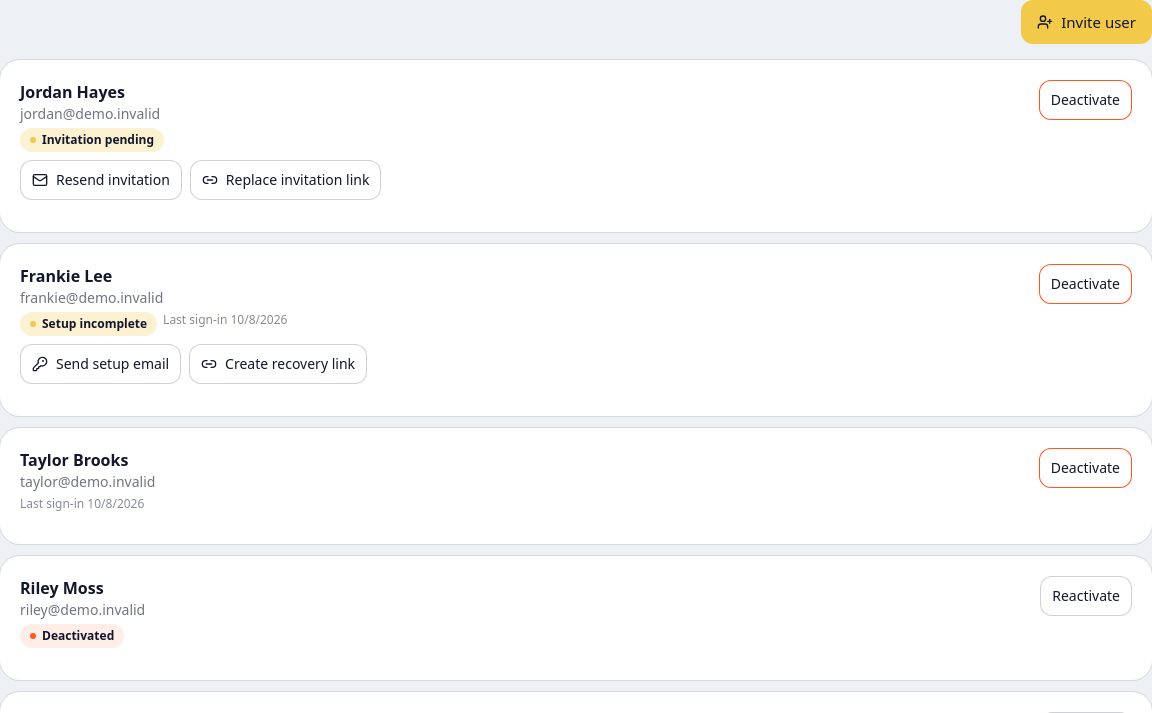
Test: recovery channel (opened invitation, no password) › audit failure → link still shown once, with the warning
Click the button "Create recovery link". click: click(278, 364)
box: [189, 344, 367, 384]
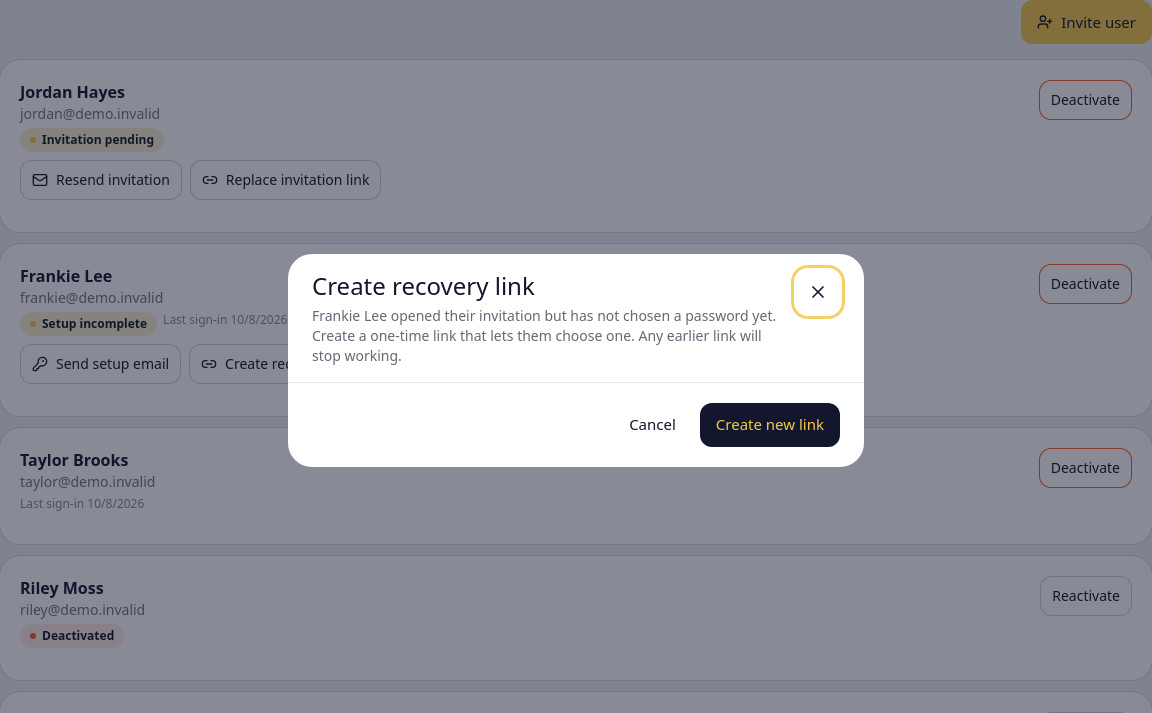
Click the button "Create new link". click: click(770, 424)
box: [700, 402, 840, 446]
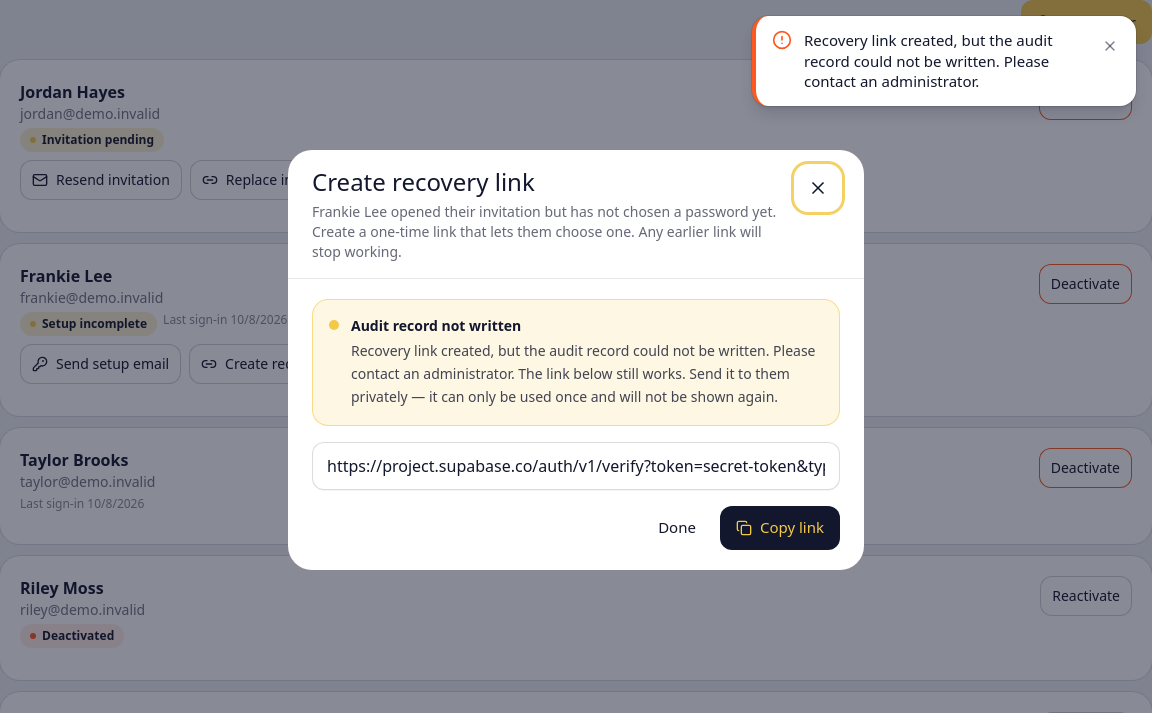
Expected: the field named "Recovery link" holds "https://project.supabase.co/auth/v1/verify?token=secret-token&type=recovery", [312, 442, 840, 490]
Expected: the text "Audit record not written" is shown, [351, 316, 521, 335]
Expected: the text "Recovery link created, but the audit record could not be written. Please contact an administrator." is shown, [804, 30, 1053, 91]
